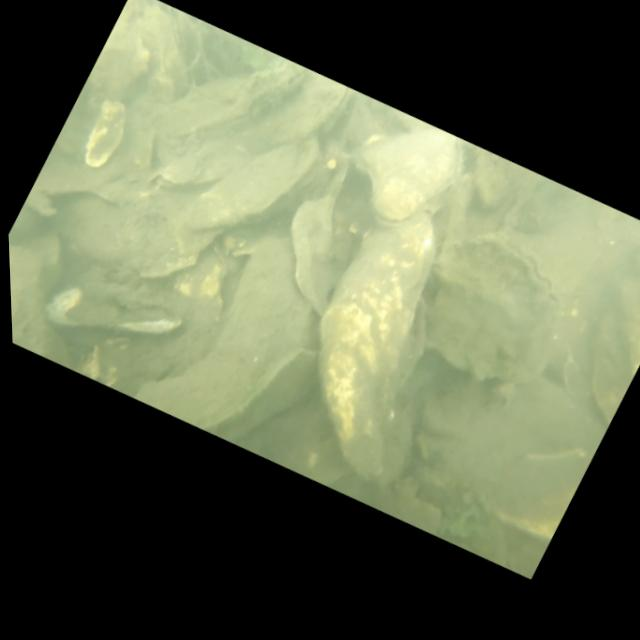Oyster-Closed: (393, 201, 595, 416), (151, 15, 311, 191), (329, 92, 480, 255), (253, 56, 357, 172)
Oyster-Indeterminate: (252, 179, 507, 498), (124, 193, 375, 477), (176, 98, 329, 274), (253, 181, 377, 327), (70, 90, 139, 176)
